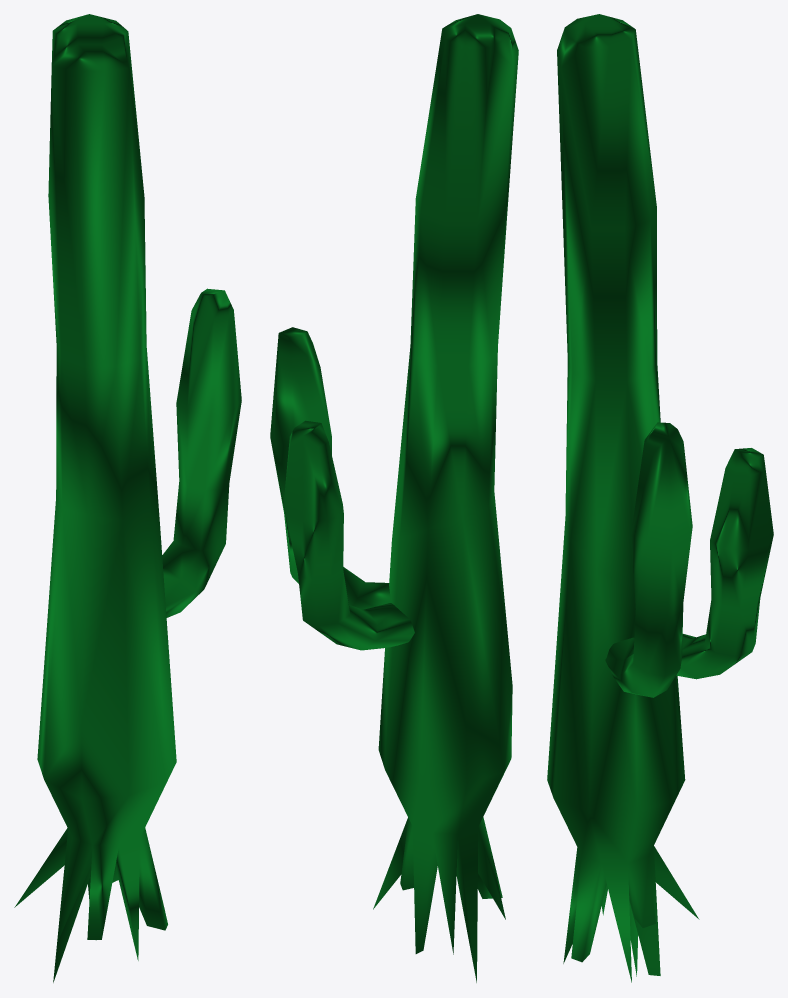
File: SeguaroCactusLarge1_LOD1.obj
The picture shows the model from 3 angles, left to right: view 1: azimuth 30°, elevation 25°; view 2: azimuth 150°, elevation 25°; view 3: azimuth 270°, elevation 25°; orthographic projection. The views are drawn at different scales.
Parts seen in each view (by area): view 1: SeguaroCactusLarge1_LOD1; view 2: SeguaroCactusLarge1_LOD1; view 3: SeguaroCactusLarge1_LOD1.
Boxes of the visible parts, box(x1,y1,x2,y2) form: SeguaroCactusLarge1_LOD1: box(14, 14, 241, 982); SeguaroCactusLarge1_LOD1: box(270, 14, 518, 982); SeguaroCactusLarge1_LOD1: box(547, 14, 773, 982).
Bounding box in the file's own units: 118 × 510 × 108.
